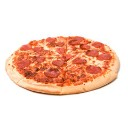pepperonipizza: (6, 37, 120, 94)
